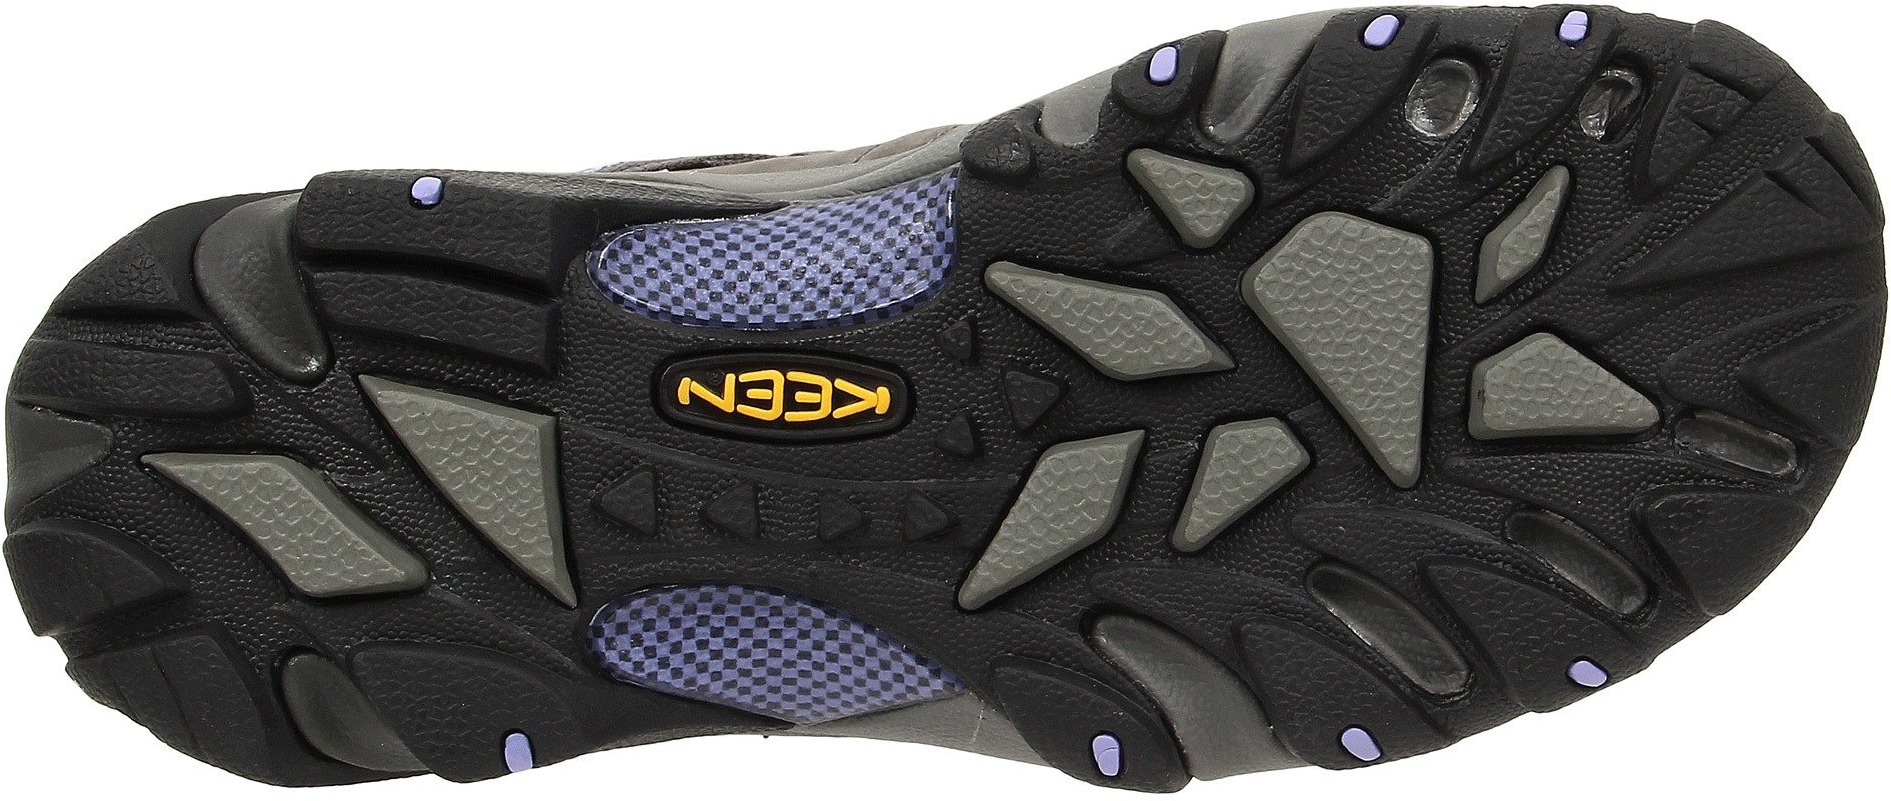quad: (1446, 326, 1740, 552), (121, 429, 440, 619), (1617, 14, 1790, 211), (1144, 397, 1334, 571)
text: (671, 334, 779, 454), (794, 344, 898, 456)
triangle: (320, 347, 592, 619), (1446, 326, 1740, 552), (1617, 14, 1790, 211), (1097, 129, 1293, 265), (912, 329, 1056, 476), (715, 467, 841, 600), (586, 458, 690, 534)
